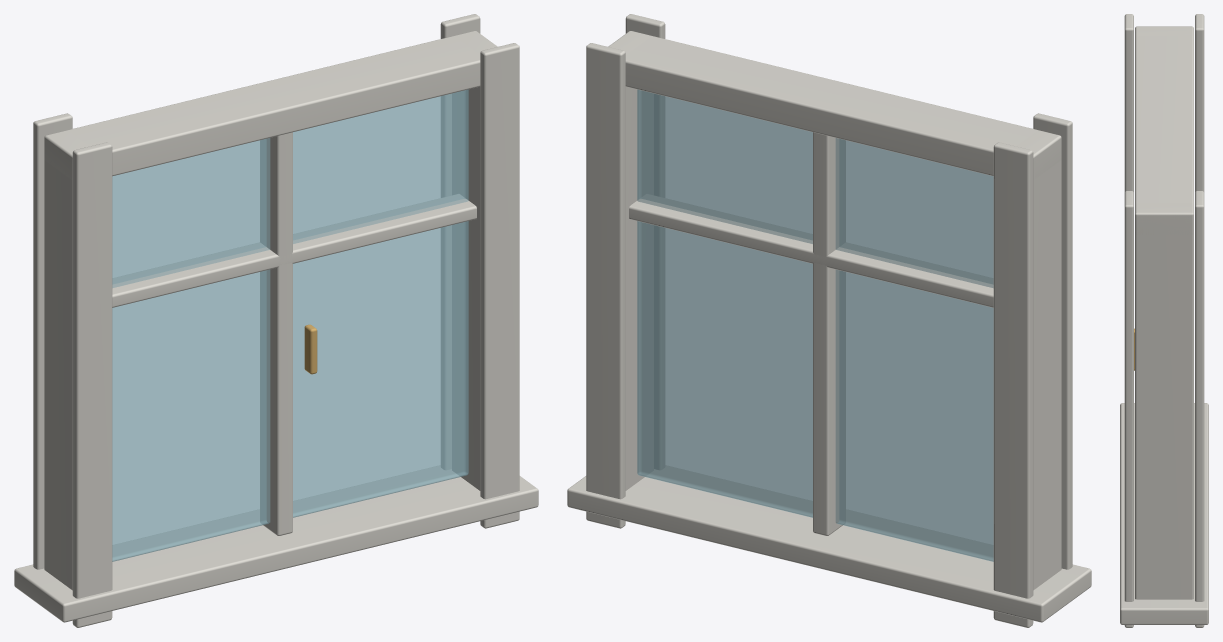
File: window-standard.glb
3 views of the same model, side by side, from view 1: azimuth 30°, elevation 25°; view 2: azimuth 150°, elevation 25°; view 3: azimuth 270°, elevation 25° (orthographic). The views are drawn at different scales.
Parts seen in each view (by area): view 1: Glazing, Sill, Lintel.004, Architrave.016, Architrave.018, Mullion, Jamb.008, Jamb.009, Transom, Architrave.017, Architrave.019; view 2: Glazing, Sill, Lintel.004, Architrave.017, Architrave.019, Jamb.008, Mullion, Jamb.009, Transom, Architrave.016, Architrave.018; view 3: Jamb.009, Lintel.004, Sill, Architrave.018, Architrave.019, Architrave.016, Architrave.017, Jamb.008.
Part boxes in pixels (x1,y1,x2,y2): Glazing: (112,89,468,561); Sill: (14,465,538,622); Lintel.004: (44,36,480,180); Architrave.016: (72,142,112,627); Architrave.018: (480,43,519,528); Mullion: (260,132,292,535); Jamb.008: (44,130,89,590); Jamb.009: (452,31,497,490); Transom: (112,194,476,307); Architrave.017: (33,113,72,569); Architrave.019: (440,14,480,469); Glazing: (637,89,993,561); Sill: (567,465,1091,622); Lintel.004: (625,36,1061,179); Architrave.017: (993,142,1033,627); Architrave.019: (586,43,625,528); Jamb.008: (1016,130,1061,590); Mullion: (813,132,845,535); Jamb.009: (608,31,653,490); Transom: (629,194,993,307); Architrave.016: (1033,113,1072,569); Architrave.018: (625,14,665,469); Jamb.009: (1135,203,1193,599); Lintel.004: (1135,35,1193,234); Sill: (1120,403,1208,624); Architrave.018: (1124,191,1133,627); Architrave.019: (1195,191,1204,627); Architrave.016: (1124,14,1133,192); Architrave.017: (1195,14,1204,192); Jamb.008: (1135,26,1193,36).
Bounding box in the file's own units: 1.32 × 1.26 × 0.24.
